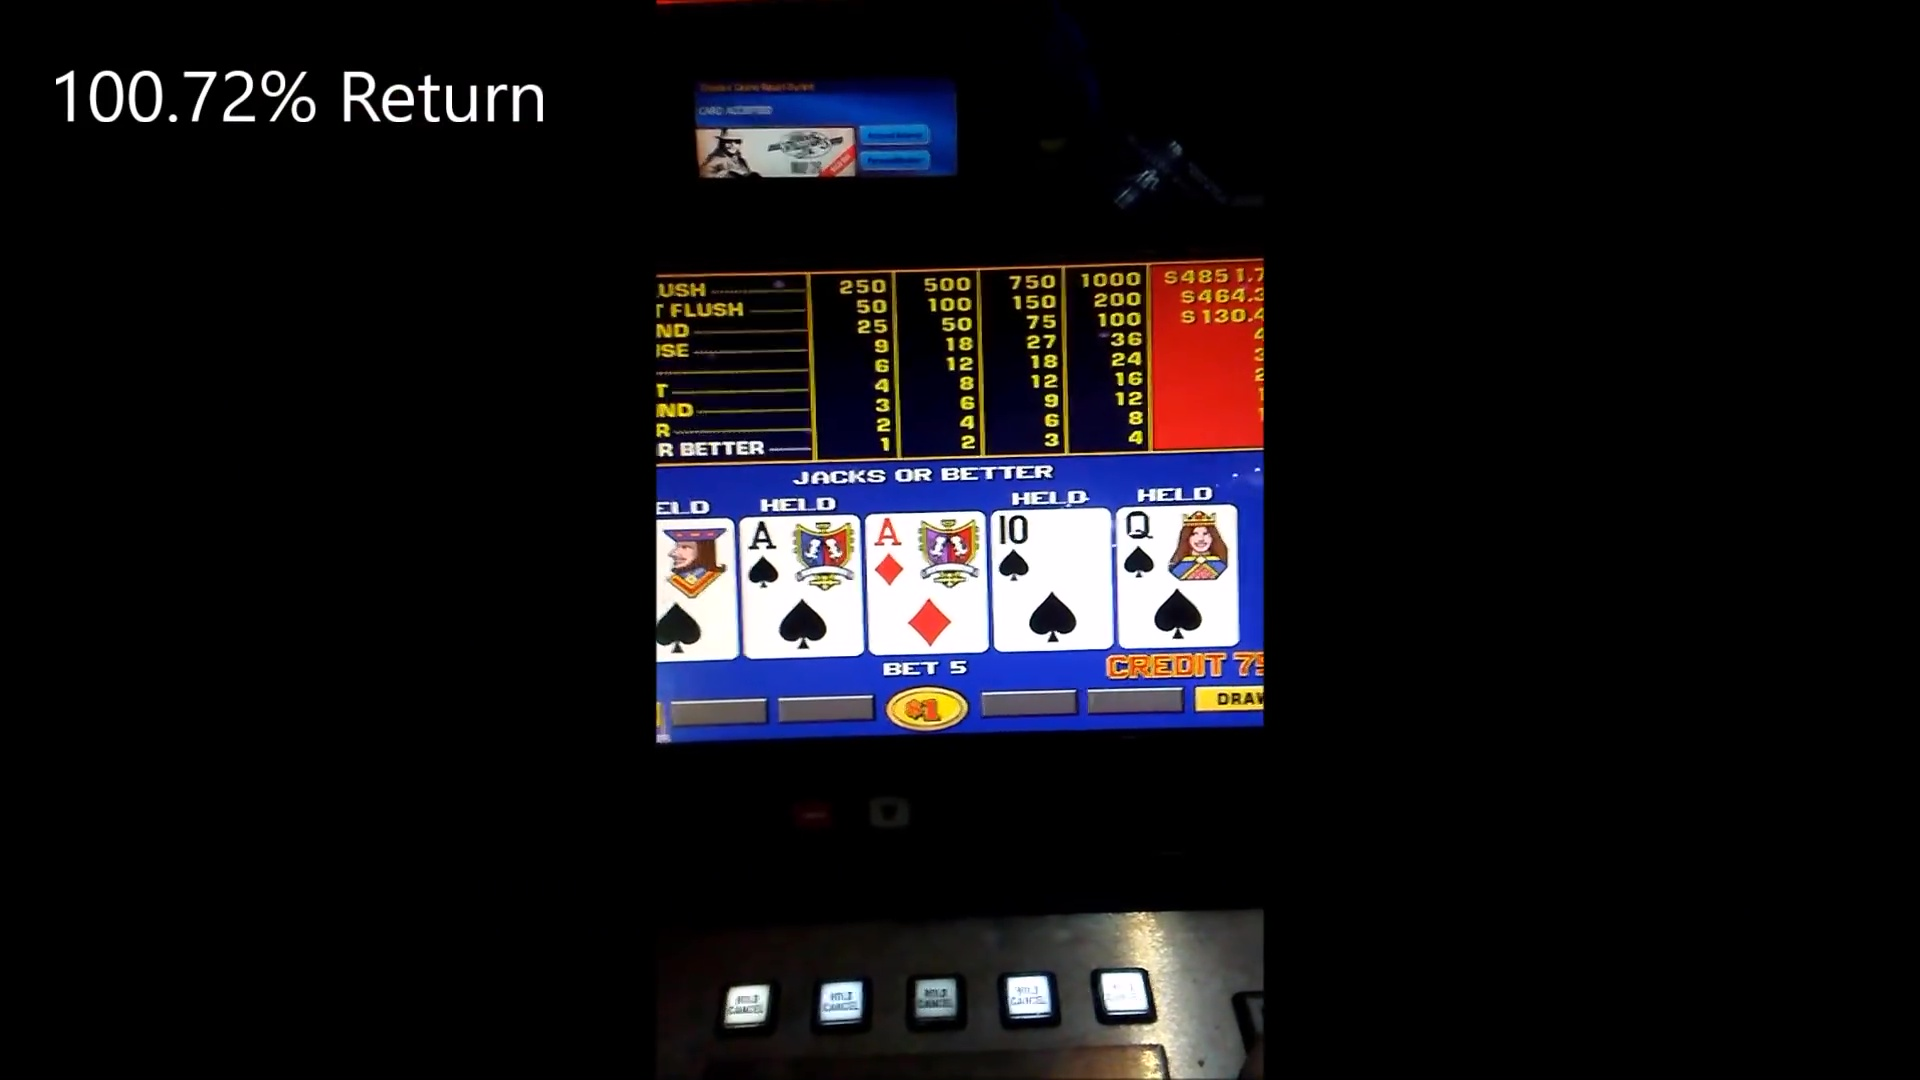DA: (866, 517, 986, 591)
SA: (742, 518, 864, 593)
SJ: (658, 521, 737, 597)
SQ: (1117, 502, 1240, 582)
ST: (994, 513, 1112, 587)
